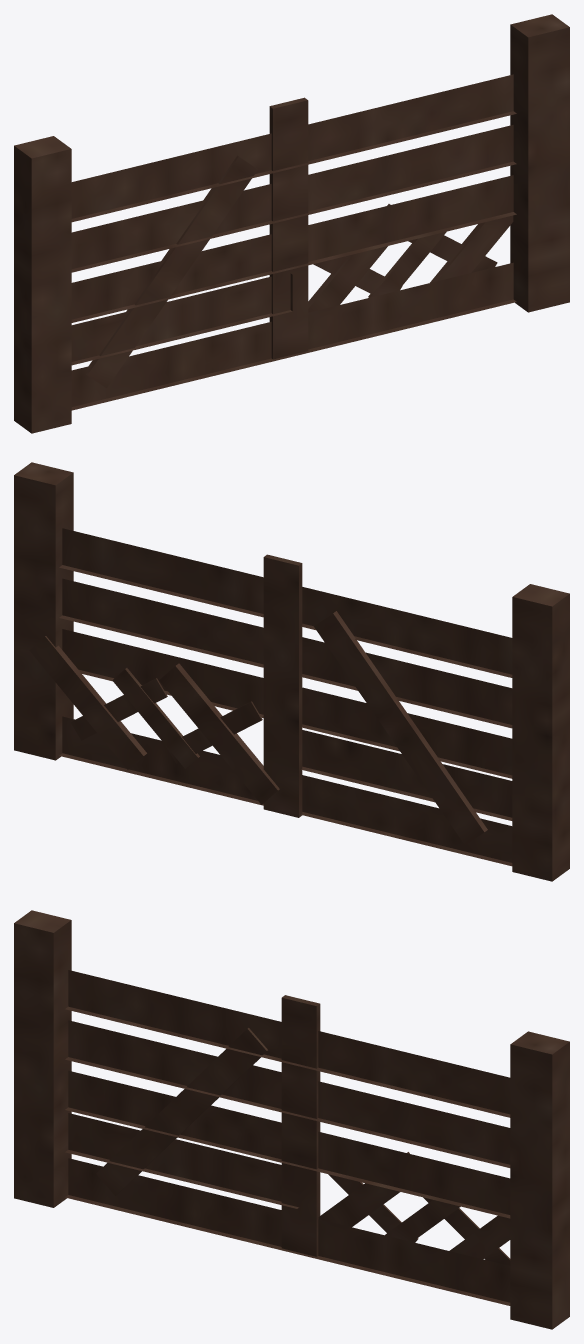
The model's file is wood_wall.fbx.
3 views of the same model, one above another, from view 1: azimuth 30°, elevation 25°; view 2: azimuth 150°, elevation 25°; view 3: azimuth 330°, elevation 25° (orthographic).
Parts seen in each view (by area): view 1: wooden beam 02.001; view 2: wooden beam 02.001; view 3: wooden beam 02.001.
Part boxes in pixels (x1,y1,x2,y2): wooden beam 02.001: (14, 14, 569, 433); wooden beam 02.001: (14, 462, 569, 881); wooden beam 02.001: (14, 910, 569, 1329).
Bounding box in the file's own units: 211 × 103 × 12.68.
